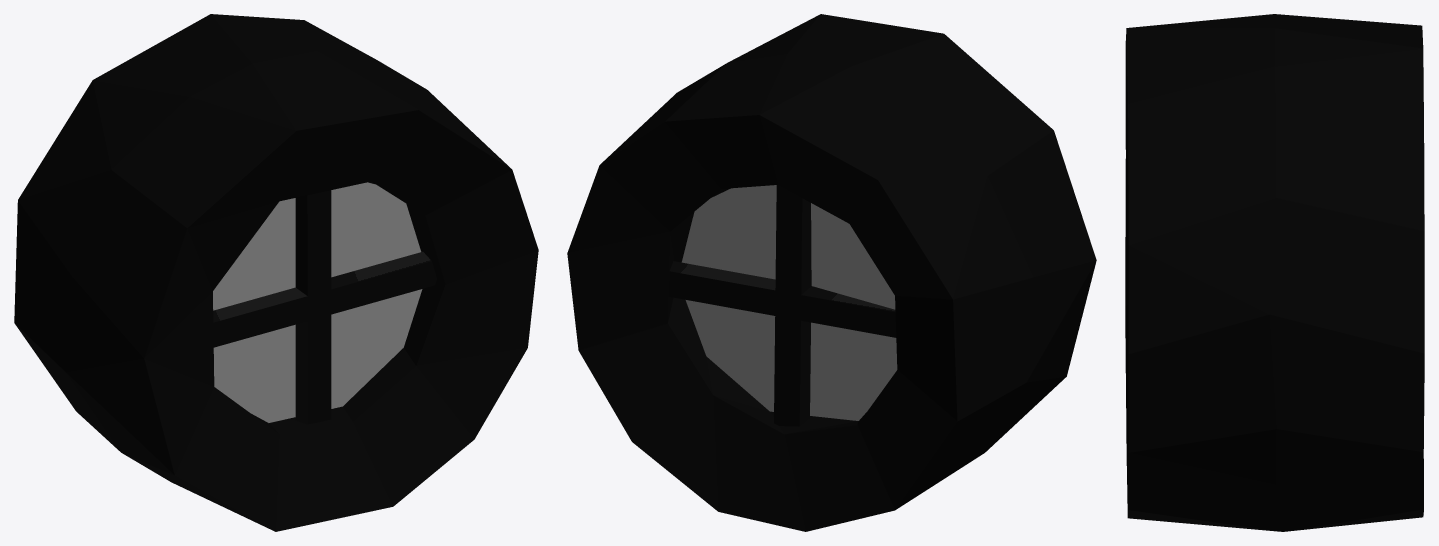
The model's file is Rueda.fbx.
3 views of the same model, side by side, from view 1: azimuth 30°, elevation 25°; view 2: azimuth 150°, elevation 25°; view 3: azimuth 270°, elevation 25° (orthographic). The views are drawn at different scales.
Parts seen in each view (by area): view 1: Rueda; view 2: Rueda; view 3: Rueda.
Boxes of the visible parts, x1=… form: Rueda: x1=14, y1=14, x2=538, y2=531; Rueda: x1=567, y1=14, x2=1096, y2=531; Rueda: x1=1125, y1=14, x2=1424, y2=531.
Bounding box in the file's own units: 167 × 168 × 97.73.
